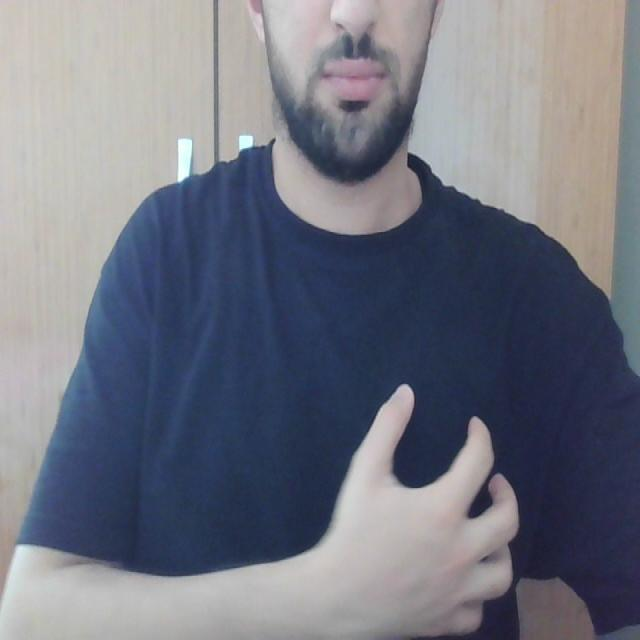Anne: (326, 380, 530, 640)
